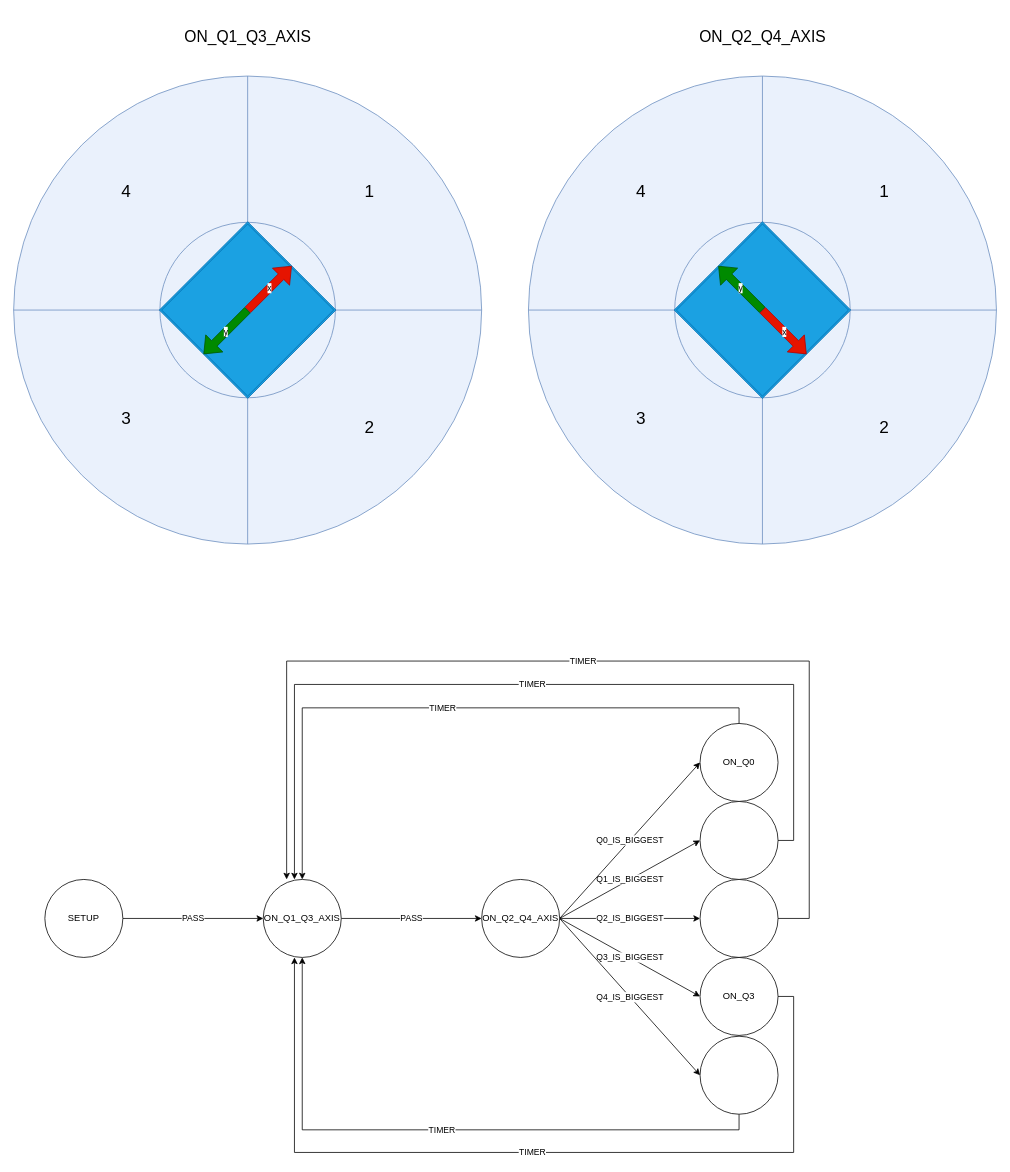
Image size: 1010x1172. Some labels were removed from this diagram. The shapes that lost their labels are listed below. From the top down, each one's box as (x1, y1, x2, y2) in pixels, then its label:
(699, 801, 778, 879): ON_Q1
(699, 879, 778, 957): ON_Q2
(699, 1035, 778, 1114): ON_Q4
